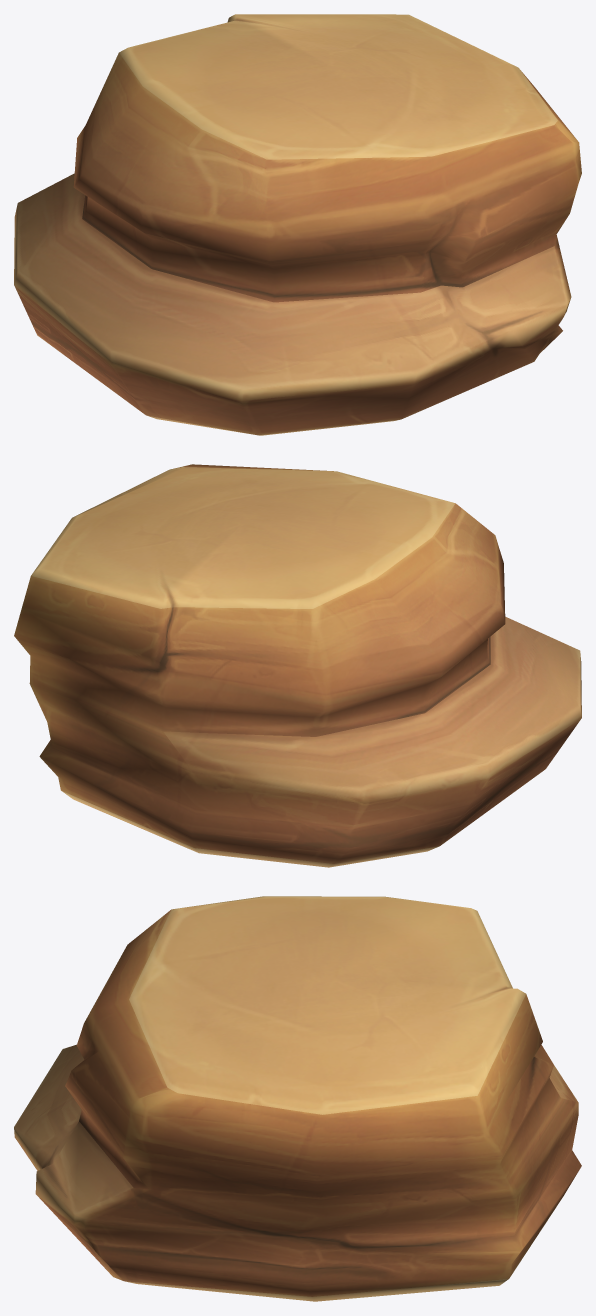
Rendered from DE_Rock_08.fbx.
The picture shows the model from 3 angles, top to bottom: view 1: azimuth 30°, elevation 25°; view 2: azimuth 150°, elevation 25°; view 3: azimuth 270°, elevation 25°; orthographic projection. The views are drawn at different scales.
Parts seen in each view (by area): view 1: DE_Rock_08; view 2: DE_Rock_08; view 3: DE_Rock_08.
Boxes of the visible parts, x1,y1,x2,y2 form: DE_Rock_08: (14, 14, 581, 435); DE_Rock_08: (14, 464, 581, 867); DE_Rock_08: (14, 896, 581, 1301).
Bounding box in the file's own units: 7.33 × 3.93 × 7.3.
